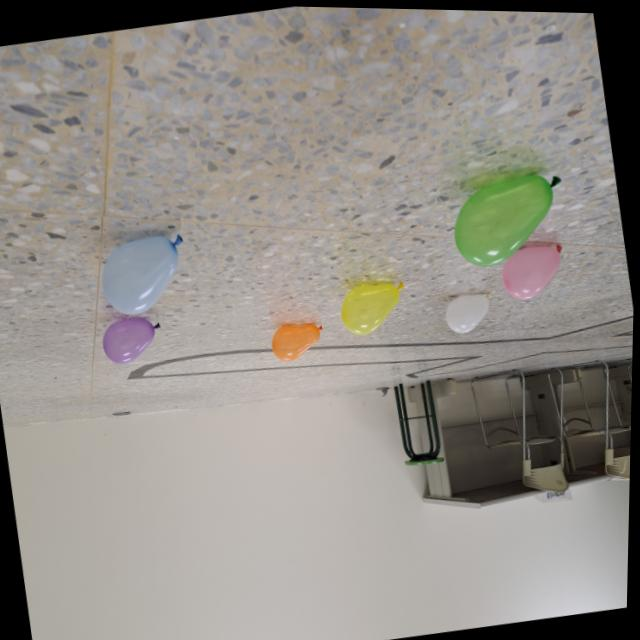other: (446, 165, 574, 272), (96, 230, 195, 320), (499, 236, 572, 303), (338, 275, 412, 339), (100, 312, 169, 369), (270, 319, 329, 365), (446, 289, 498, 336)
